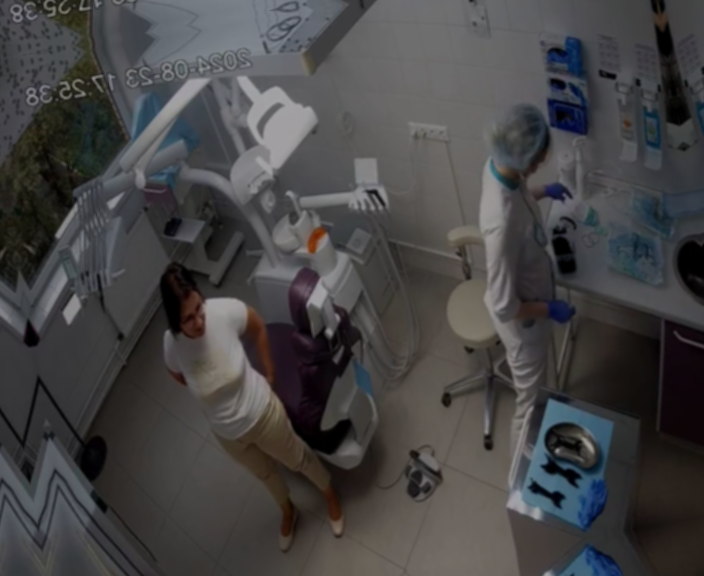Empty: (239, 252, 394, 484)
